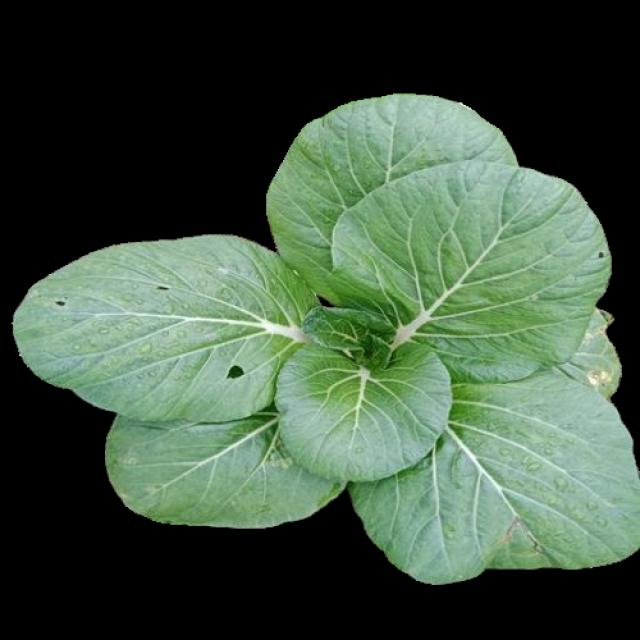mature: (16, 92, 638, 581)
unhealthy: (328, 157, 606, 379), (348, 372, 634, 578), (16, 233, 327, 419), (554, 315, 621, 407)
